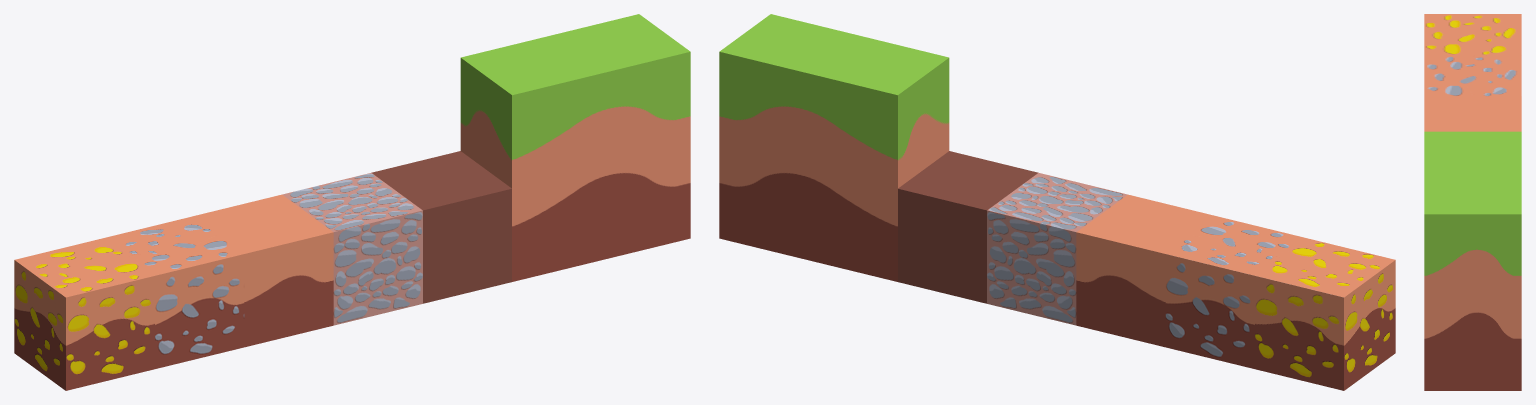
File: blocks.fbx
3 renders of one model, left to right at view 1: azimuth 30°, elevation 25°; view 2: azimuth 150°, elevation 25°; view 3: azimuth 270°, elevation 25°, orthographic. The views are drawn at different scales.
Visible parts, largest first — view 1: grass, gold, dirt, stone1, stone2, floor; view 2: grass, gold, dirt, stone1, stone2, floor; view 3: grass, stone2, gold, dirt.
Boxes of the visible parts, left/top/right/bottom form: grass: left=460, top=14, right=690, bottom=281; gold: left=14, top=238, right=154, bottom=390; dirt: left=193, top=194, right=333, bottom=347; stone1: left=282, top=173, right=422, bottom=325; stone2: left=104, top=216, right=244, bottom=368; floor: left=371, top=151, right=511, bottom=303; grass: left=719, top=14, right=949, bottom=281; gold: left=1255, top=238, right=1395, bottom=390; dirt: left=1076, top=194, right=1216, bottom=347; stone1: left=987, top=173, right=1127, bottom=325; stone2: left=1165, top=216, right=1305, bottom=368; floor: left=898, top=151, right=1038, bottom=303; grass: left=1424, top=131, right=1521, bottom=390; stone2: left=1424, top=55, right=1521, bottom=96; gold: left=1424, top=14, right=1521, bottom=55; dirt: left=1424, top=96, right=1521, bottom=131.
Size of the model in its own units: 14 by 4 by 2.
Materials: 6 (5 with a texture image).
